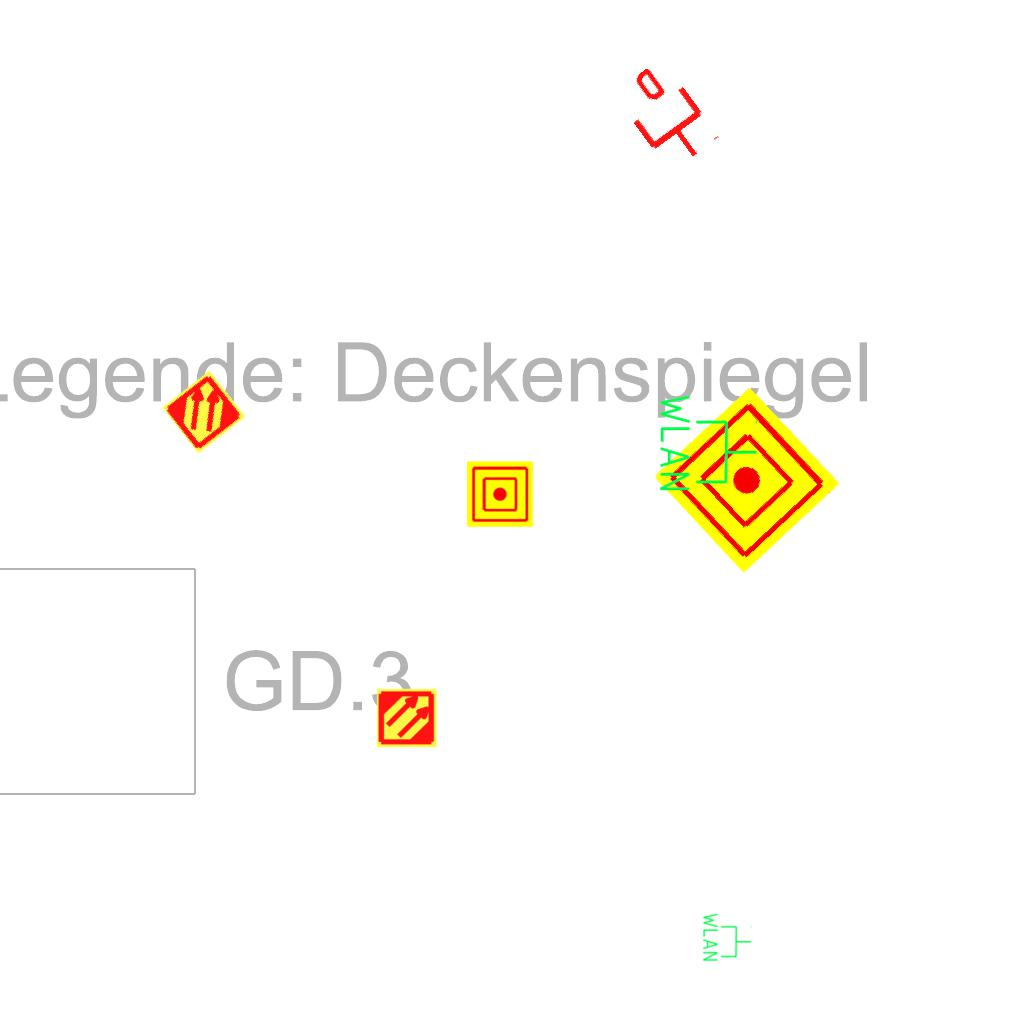ASR_Ansaugrauchmelder: (160, 368, 248, 456), (376, 687, 438, 749)
Datenanschluss_einfach: (609, 55, 724, 177)
NAM-Nichtautomatischer_Melder: (653, 386, 841, 574), (467, 461, 533, 527)
WLAN: (656, 390, 760, 495), (701, 911, 753, 963)
